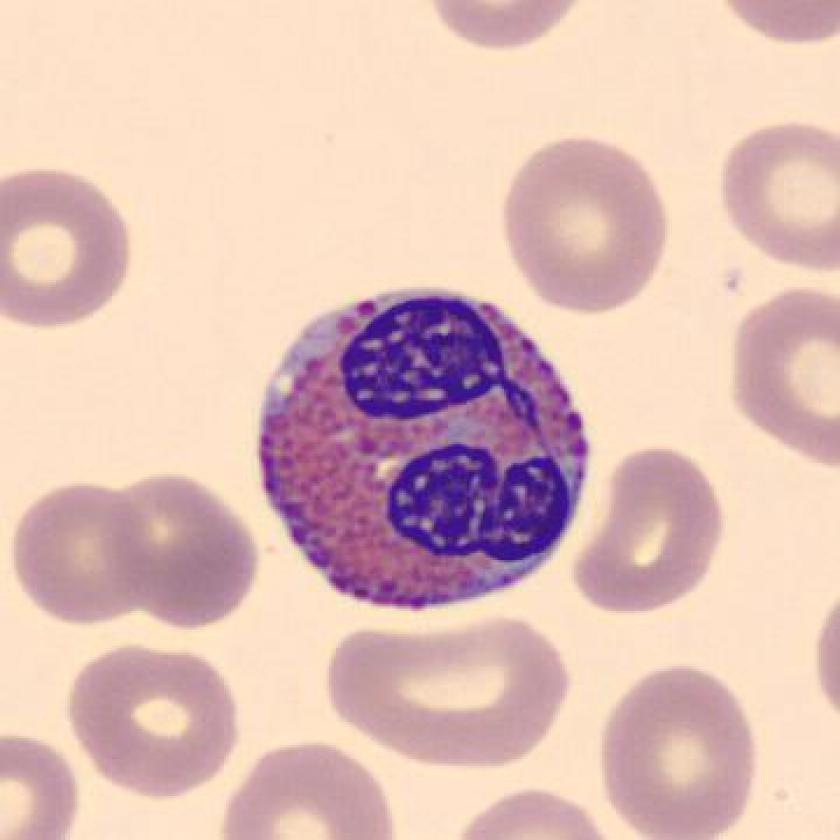eosinophil: (244, 272, 603, 621)
